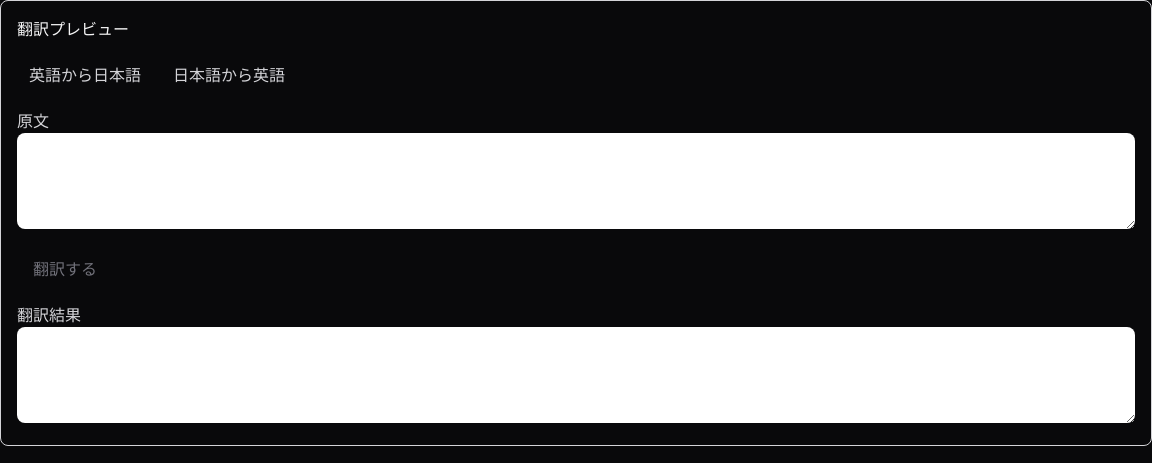
Scenario: TranslationPreviewCard › sends a new request when input returns A→B→A and only the newest A response wins
Type "A" into the text box labelled "原文".
click(576, 181); type("A")  # box [17,133,1135,229]
Wait 300 ms
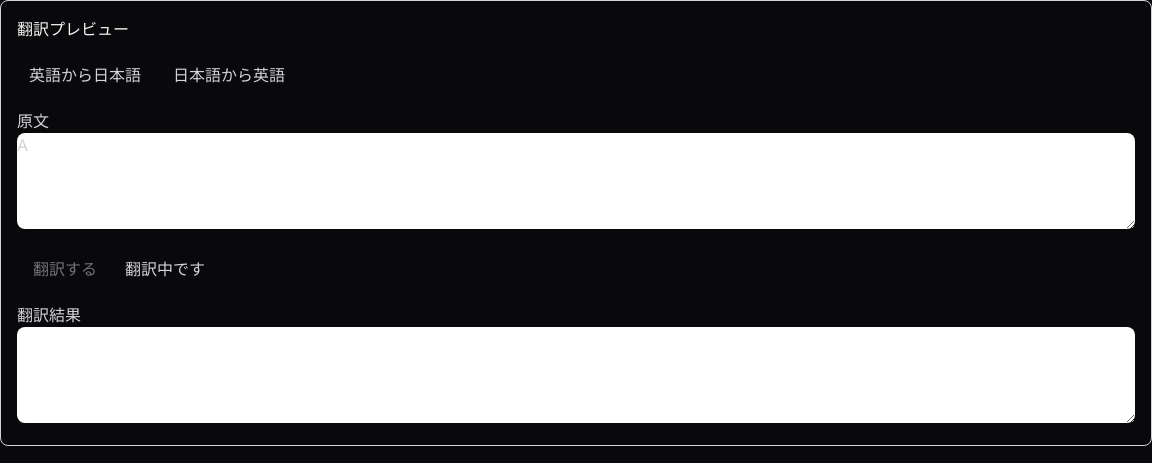
Replace the text in the text box labelled "原文" with "B" at coordinates (576, 181), box [17,133,1135,229]
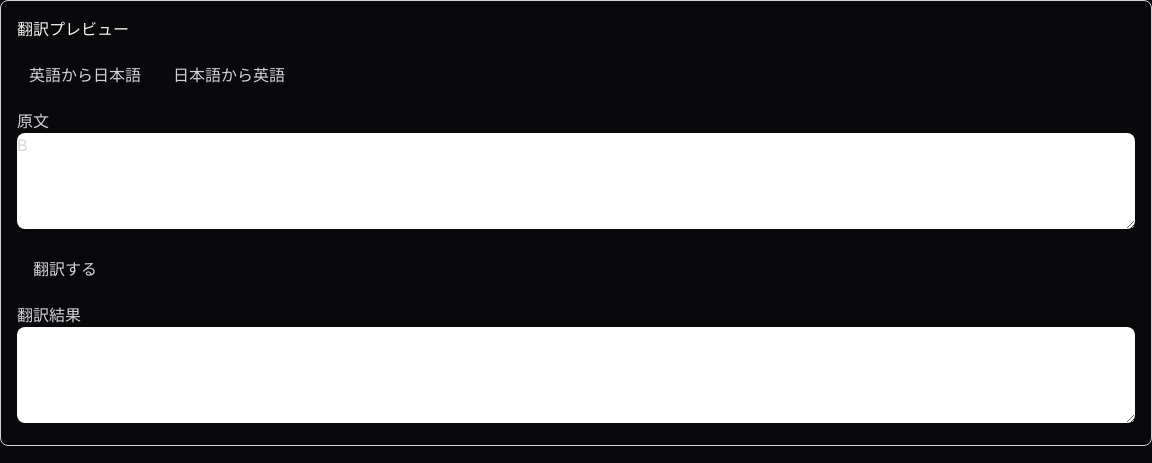
Replace the text in the text box labelled "原文" with "A" at coordinates (576, 181), box [17,133,1135,229]
Wait 300 ms
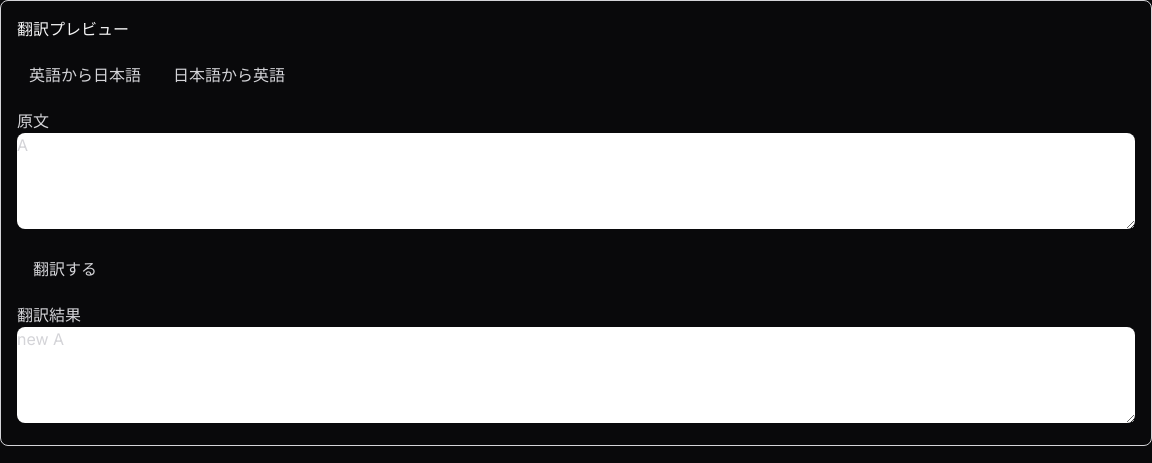
Expected: the text box labelled "翻訳結果" holds "new A", [17,327,1135,423]
